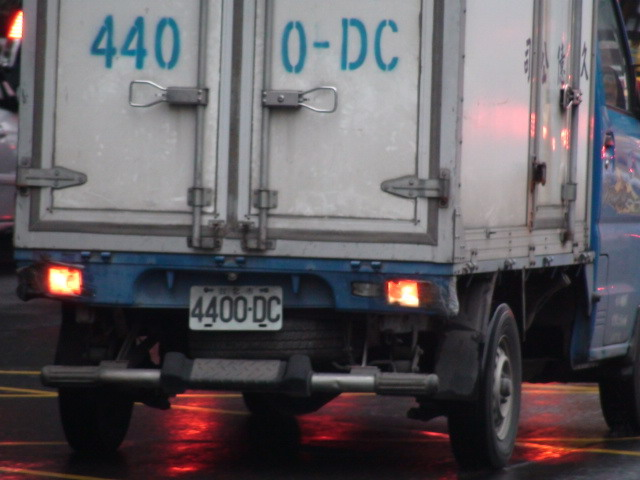plate: (186, 282, 286, 333)
